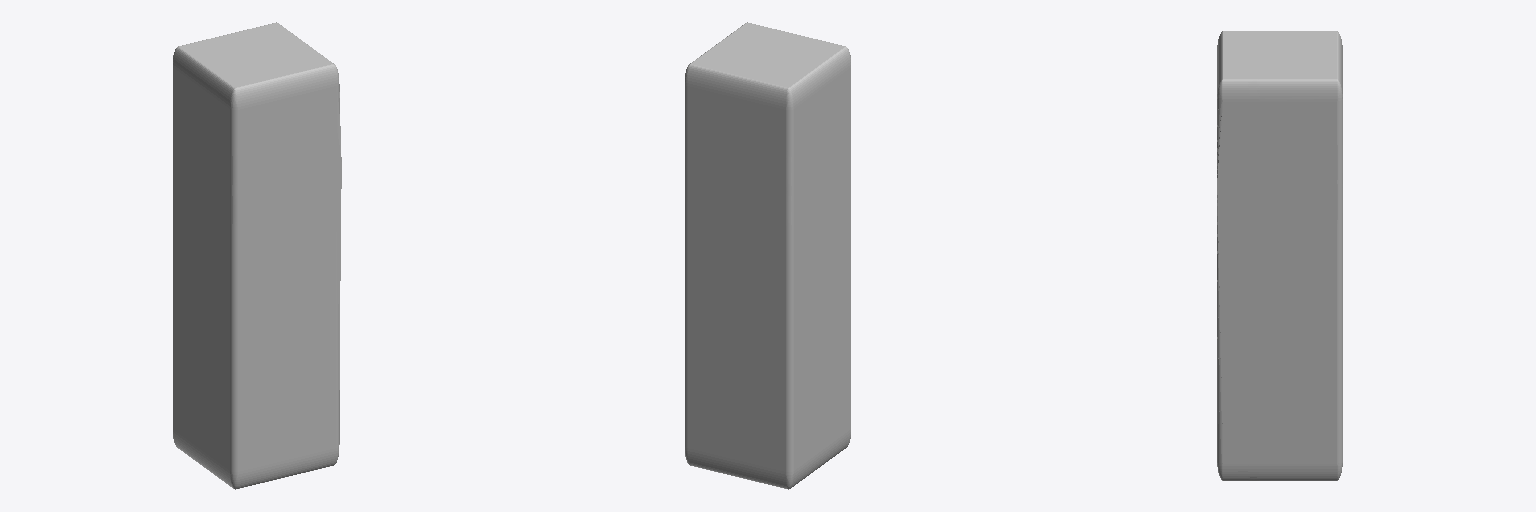
Rendered from Monument.obj.
3 views of the same model, side by side, from view 1: azimuth 30°, elevation 25°; view 2: azimuth 150°, elevation 25°; view 3: azimuth 270°, elevation 25° (orthographic).
Parts seen in each view (by area): view 1: Cube; view 2: Cube; view 3: Cube.
Part boxes in pixels (x1,y1,x2,y2): Cube: (173,22,341,489); Cube: (685,22,850,489); Cube: (1217,31,1342,480).
Bounding box in the file's own units: 44.23 × 156 × 44.23.